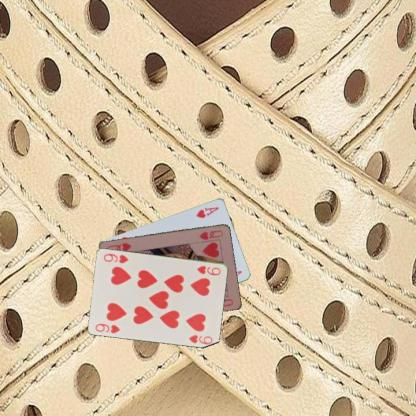9h: (93, 320, 121, 335), (194, 263, 222, 277)
Ah: (194, 204, 220, 219)
Qh: (197, 227, 224, 241)
